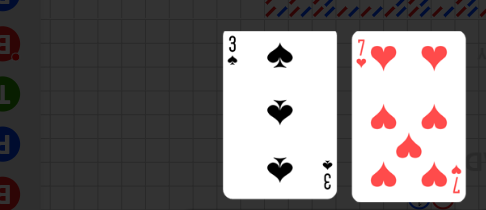3S: (226, 35, 240, 68)
7H: (449, 163, 462, 195)
